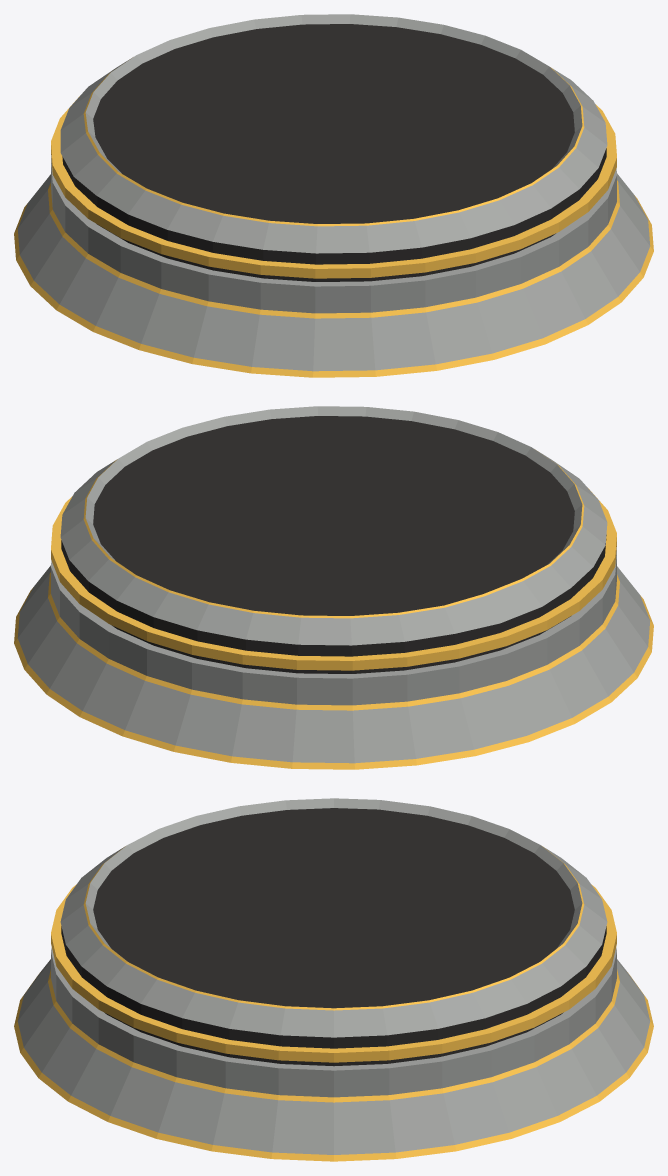
File: football stand(1).fbx
The picture shows the model from 3 angles, top to bottom: view 1: azimuth 30°, elevation 25°; view 2: azimuth 150°, elevation 25°; view 3: azimuth 270°, elevation 25°; orthographic projection.
Parts seen in each view (by area): view 1: Cylinder; view 2: Cylinder; view 3: Cylinder.
Boxes of the visible parts, x1=… form: Cylinder: x1=14, y1=14, x2=653, y2=377; Cylinder: x1=14, y1=406, x2=653, y2=769; Cylinder: x1=14, y1=798, x2=653, y2=1161.
Bounding box in the file's own units: 226 × 48.25 × 226.
